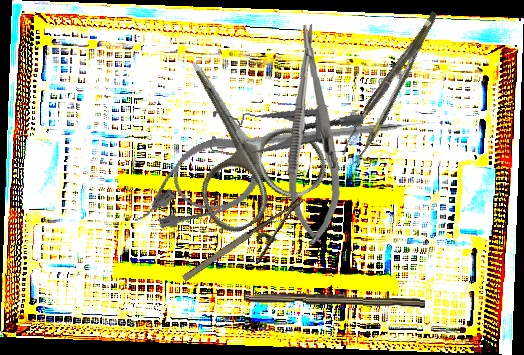Cannula: (117, 126, 271, 243)
Hook Surgical: (216, 117, 436, 152)
Iris Scissors: (139, 29, 336, 241)
Needle Holder: (179, 195, 321, 302), (281, 23, 344, 245)
Scalpel Handle: (243, 290, 426, 308)
Speculum: (206, 86, 365, 178)
Tissue Forceps: (333, 10, 455, 165)
